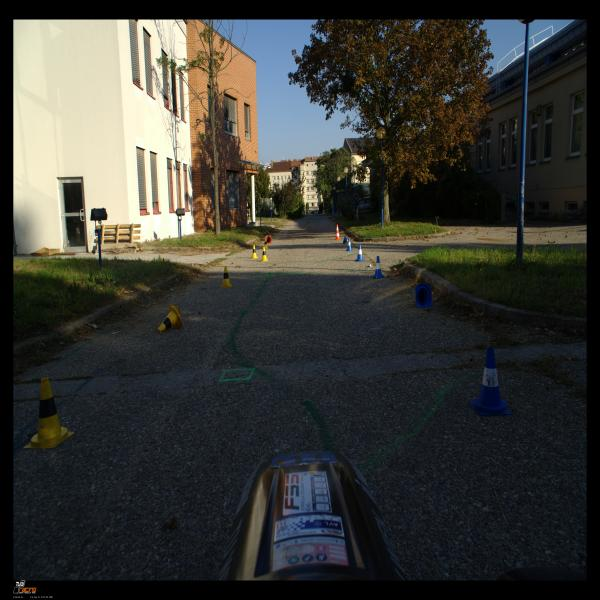blue_cone: (470, 347, 512, 416), (416, 283, 432, 308), (373, 256, 384, 279), (355, 245, 365, 262), (346, 238, 353, 251), (343, 236, 351, 243)
large_orange_cone: (335, 224, 341, 240), (266, 235, 272, 244)
yellow_cone: (24, 378, 74, 448), (157, 304, 183, 334), (220, 266, 233, 288), (261, 246, 268, 262), (251, 245, 258, 258), (264, 238, 269, 249)
